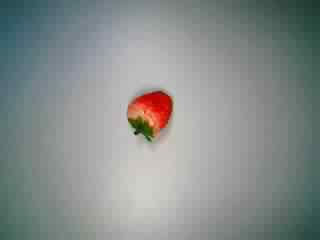strawberry: (113, 82, 181, 146)
